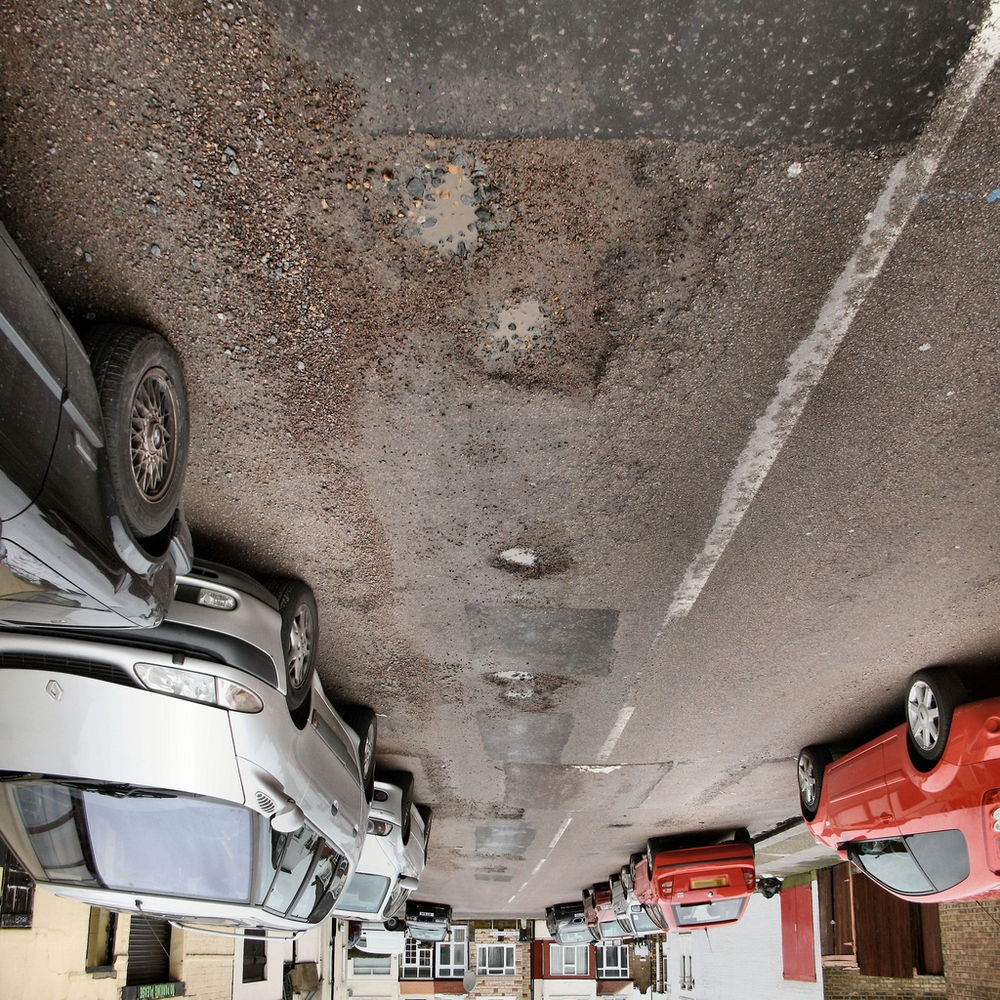pothole: (463, 292, 607, 406), (388, 147, 484, 263), (472, 649, 555, 726), (473, 531, 561, 574), (453, 844, 521, 863), (491, 803, 524, 825), (601, 818, 630, 832), (473, 866, 502, 872)
